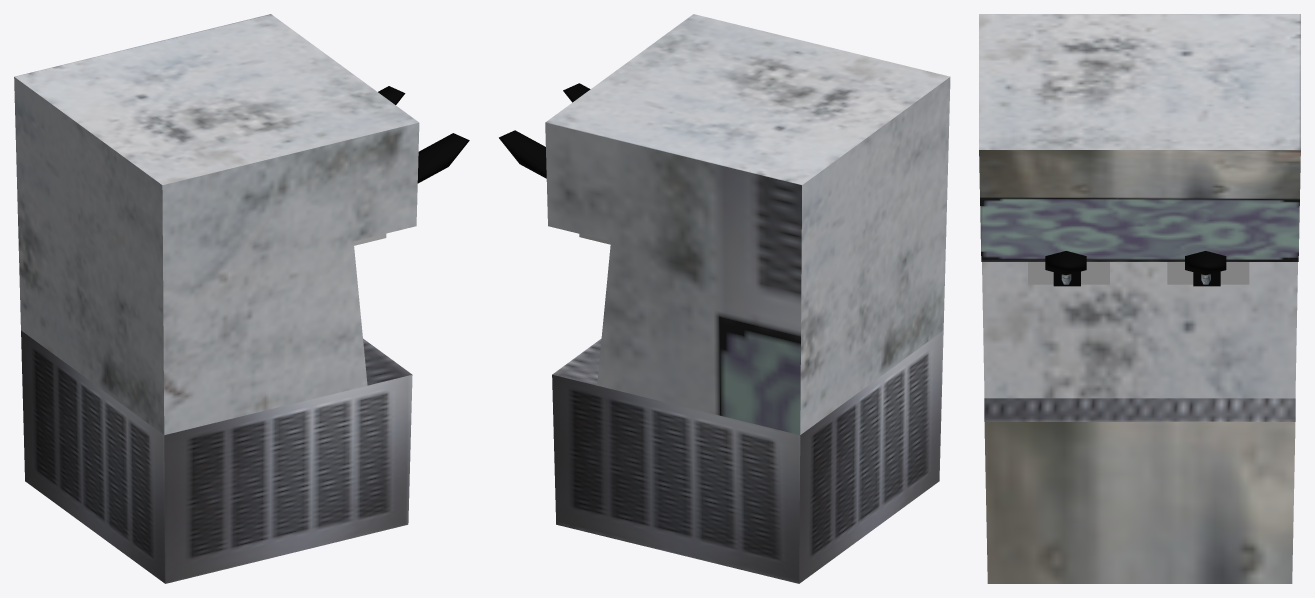
The model's file is IceboxPrime.glb.
The picture shows the model from 3 angles, left to right: view 1: azimuth 30°, elevation 25°; view 2: azimuth 150°, elevation 25°; view 3: azimuth 270°, elevation 25°; orthographic projection. The views are drawn at different scales.
Visible parts, largest first — view 1: Cube, Handle; view 2: Cube, Handle.001; view 3: Cube, Dispenser.001, Dispenser, Handle, Handle.001.
Part boxes in pixels (box(x1,y1,x2,y2)): Cube: box(14, 14, 419, 583); Handle: box(417, 133, 469, 183); Cube: box(545, 14, 950, 583); Handle.001: box(499, 130, 546, 178); Cube: box(979, 14, 1300, 583); Dispenser.001: box(1167, 262, 1249, 284); Dispenser: box(1028, 262, 1109, 284); Handle: box(1045, 251, 1086, 275); Handle.001: box(1185, 251, 1226, 275).
Bounding box in the file's own units: 2.71 × 3 × 2.
6 materials, 2 textured.
